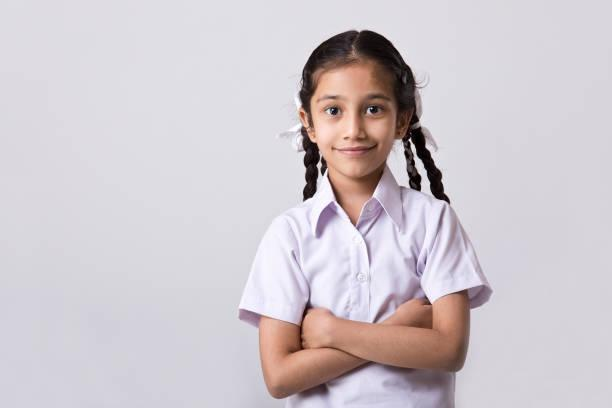Human: (249, 24, 521, 404)
